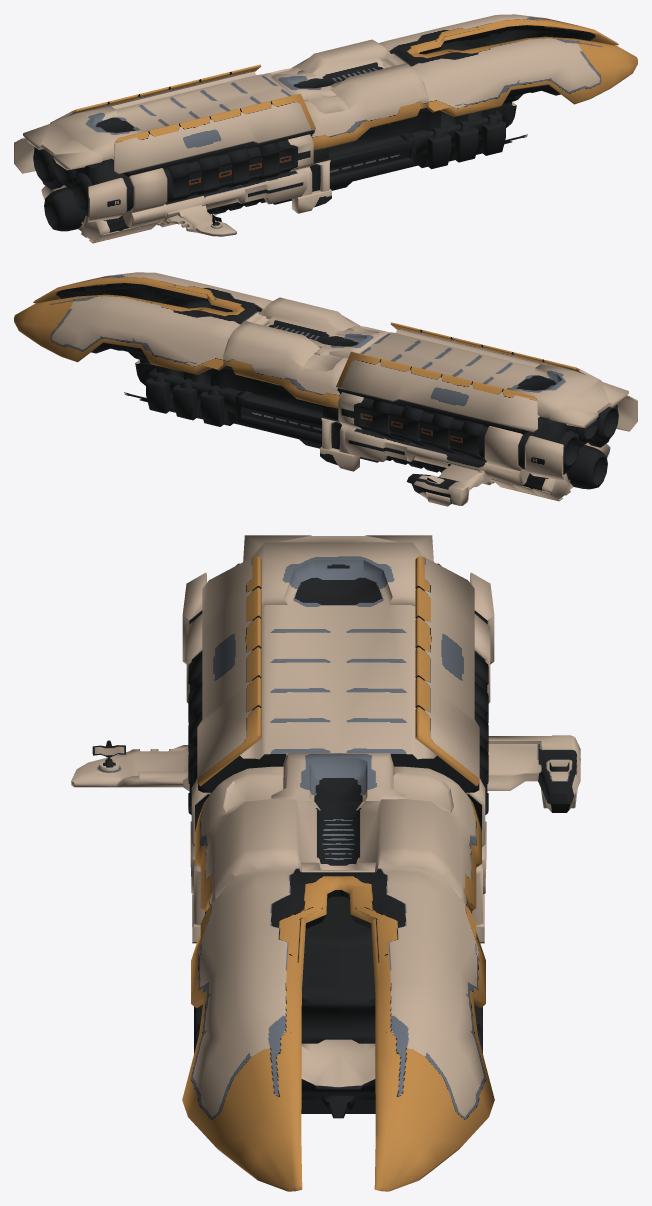
Rendered from dragoon.glb.
3 renders of one model, top to bottom at view 1: azimuth 30°, elevation 25°; view 2: azimuth 150°, elevation 25°; view 3: azimuth 270°, elevation 25°, orthographic. The views are drawn at different scales.
Parts seen in each view (by area): view 1: Dragoon; view 2: Dragoon; view 3: Dragoon.
Part boxes in pixels (<box>): Dragoon: <box>14,14,637,243</box>; Dragoon: <box>14,272,637,506</box>; Dragoon: <box>71,535,580,1191</box>.
Bounding box in the file's own units: 256 × 44.2 × 96.88.
1 material, 1 textured.
